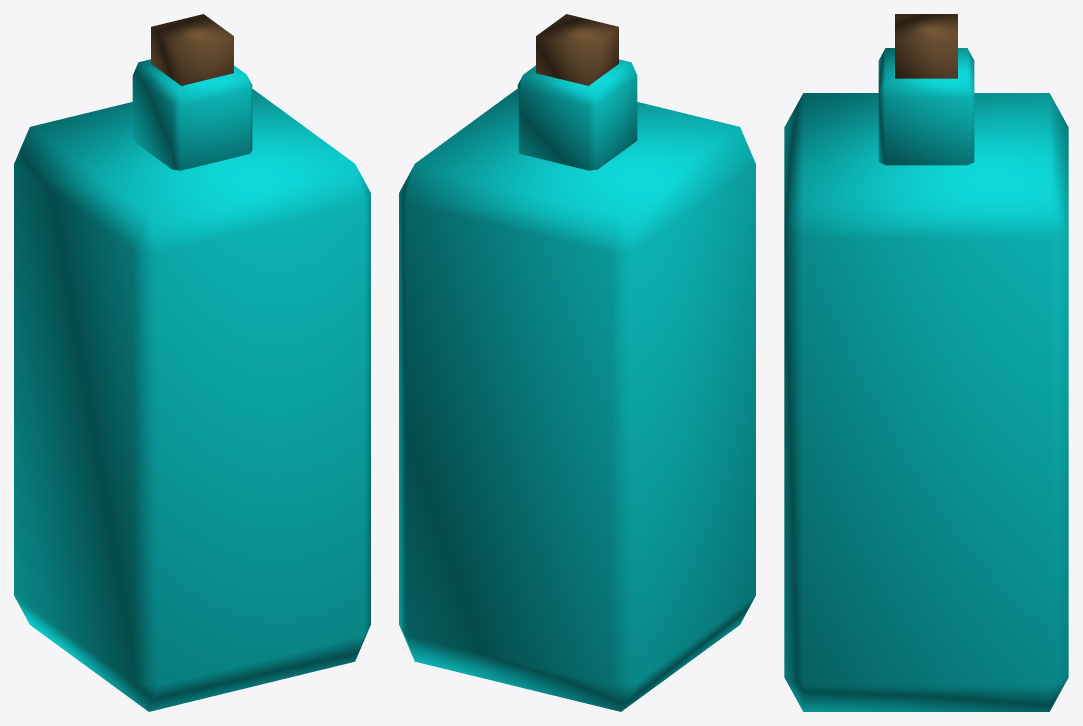
The model's file is CYAN RECTANGLE POTION.glb.
The picture shows the model from 3 angles, left to right: view 1: azimuth 30°, elevation 25°; view 2: azimuth 150°, elevation 25°; view 3: azimuth 270°, elevation 25°; orthographic projection. The views are drawn at different scales.
Visible parts, largest first — view 1: Cube; view 2: Cube; view 3: Cube.
Part boxes in pixels (left/top/right/bottom): Cube: left=14, top=14, right=370, bottom=711; Cube: left=399, top=14, right=755, bottom=711; Cube: left=784, top=14, right=1068, bottom=711.
Bounding box in the file's own units: 2 × 4.91 × 2.
